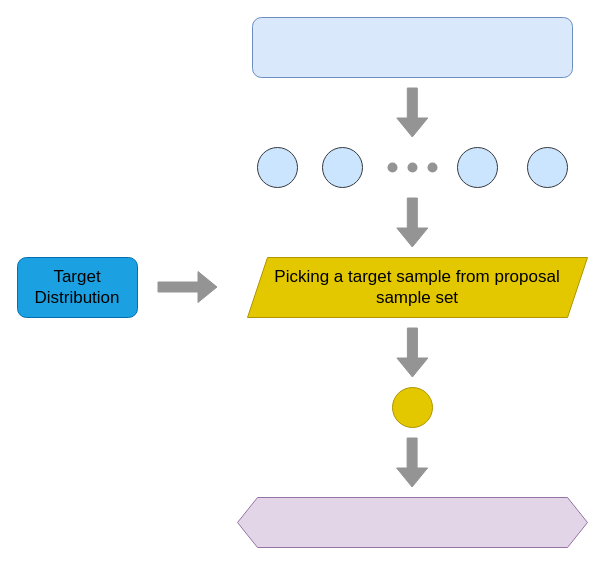
Some shapes in this 605 by 565 pixel diagram are drawn without their labels. The shapes that lost their labels are listed below. From the top down, each one's centre as x and y in pixels, then its label:
At point 412,47: "Proposal PDF".
At point 412,522: "RIS Estimator".
